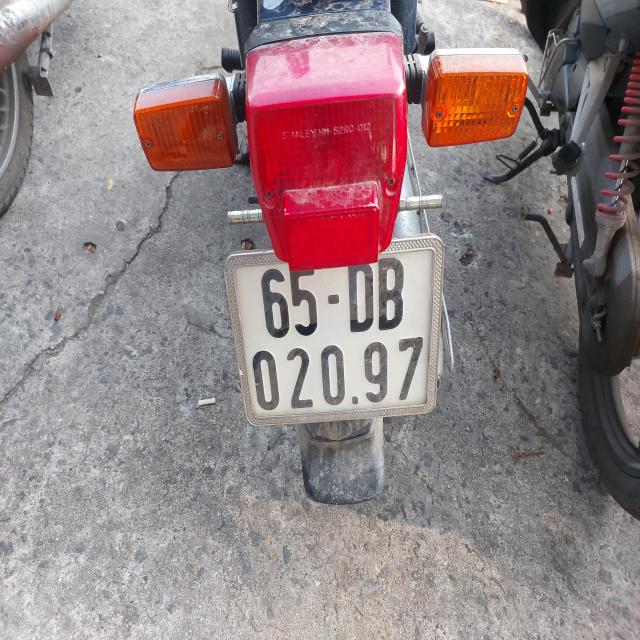0: (252, 346, 282, 415), (317, 342, 347, 409)
2: (287, 345, 313, 412)
5: (288, 263, 321, 338)
6: (258, 267, 291, 342)
7: (398, 334, 424, 404)
9: (361, 340, 390, 404)
B: (378, 255, 406, 332)
D: (346, 263, 376, 335)
